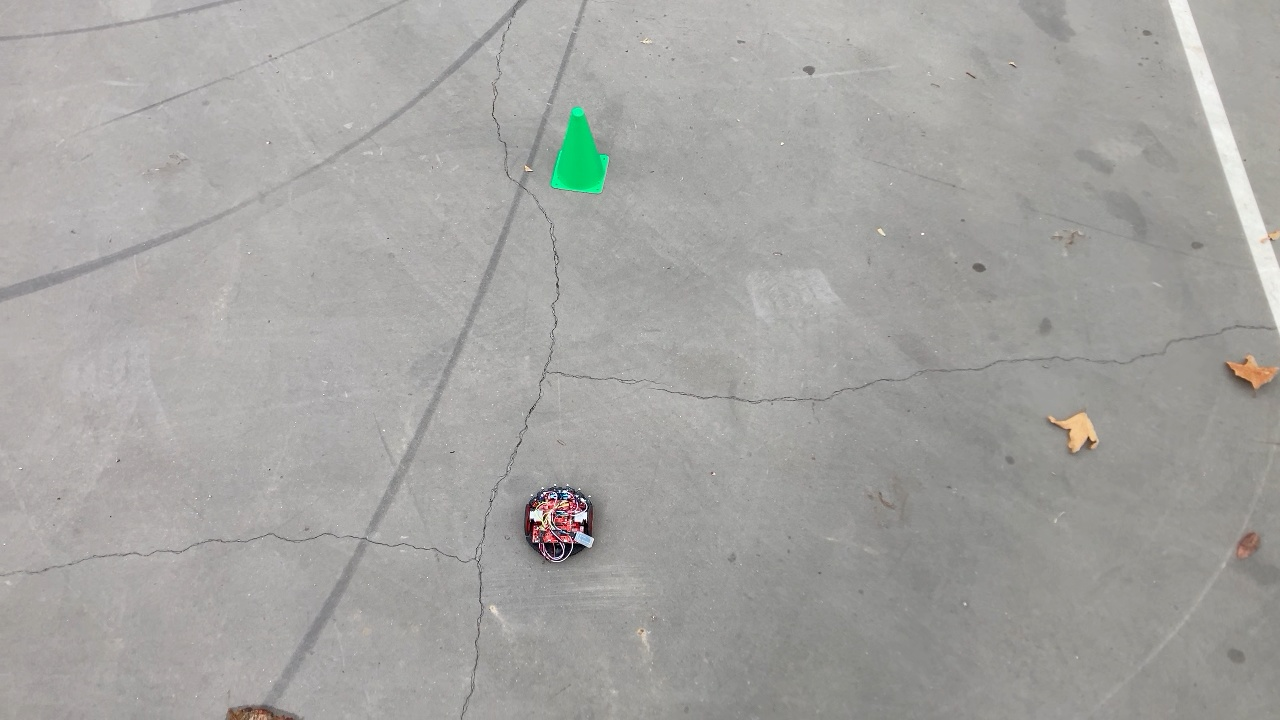green_cone: (550, 104, 616, 195)
robot: (519, 486, 599, 568)
